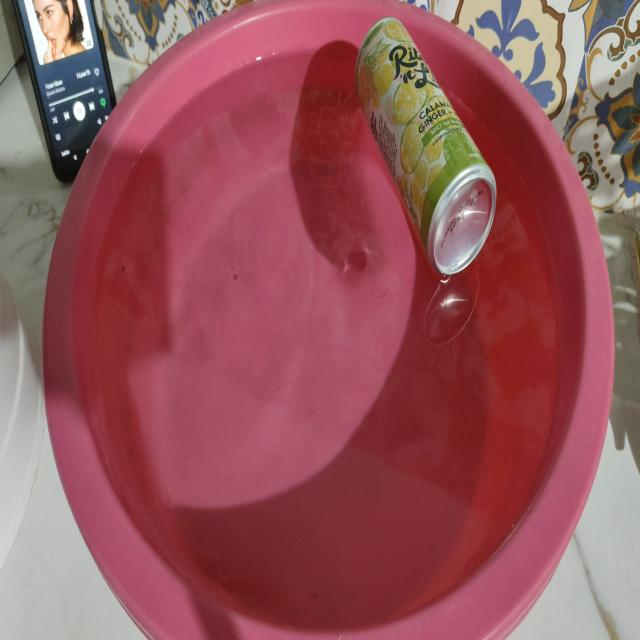Aluminum Can: (355, 17, 497, 275)
